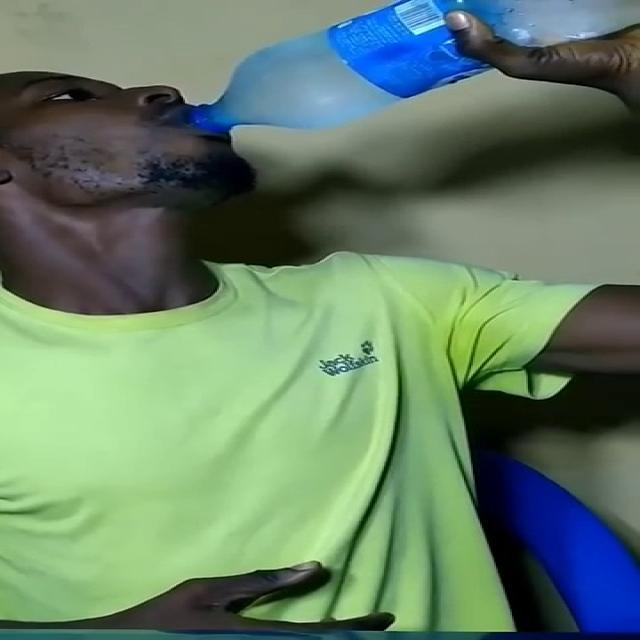Bottle: (196, 0, 638, 132)
Hand: (437, 0, 635, 119)
Mouth: (134, 103, 246, 139)
